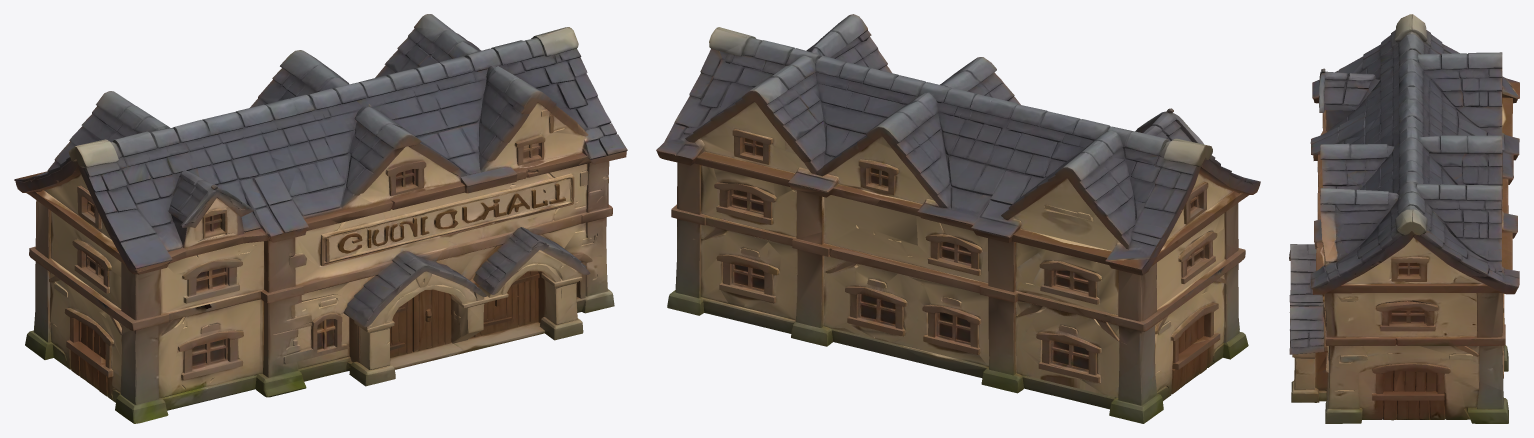
The picture shows the model from 3 angles, left to right: view 1: azimuth 30°, elevation 25°; view 2: azimuth 150°, elevation 25°; view 3: azimuth 270°, elevation 25°; orthographic projection. The views are drawn at different scales.
Visible parts, largest first — view 1: model; view 2: model; view 3: model.
Boxes of the visible parts, left/top/right/bottom form: model: left=14, top=14, right=627, bottom=423; model: left=656, top=14, right=1260, bottom=423; model: left=1289, top=14, right=1519, bottom=423.
Bounding box in the file's own units: 1.9 × 0.8854 × 0.897.
Materials: 1 (1 with a texture image).
